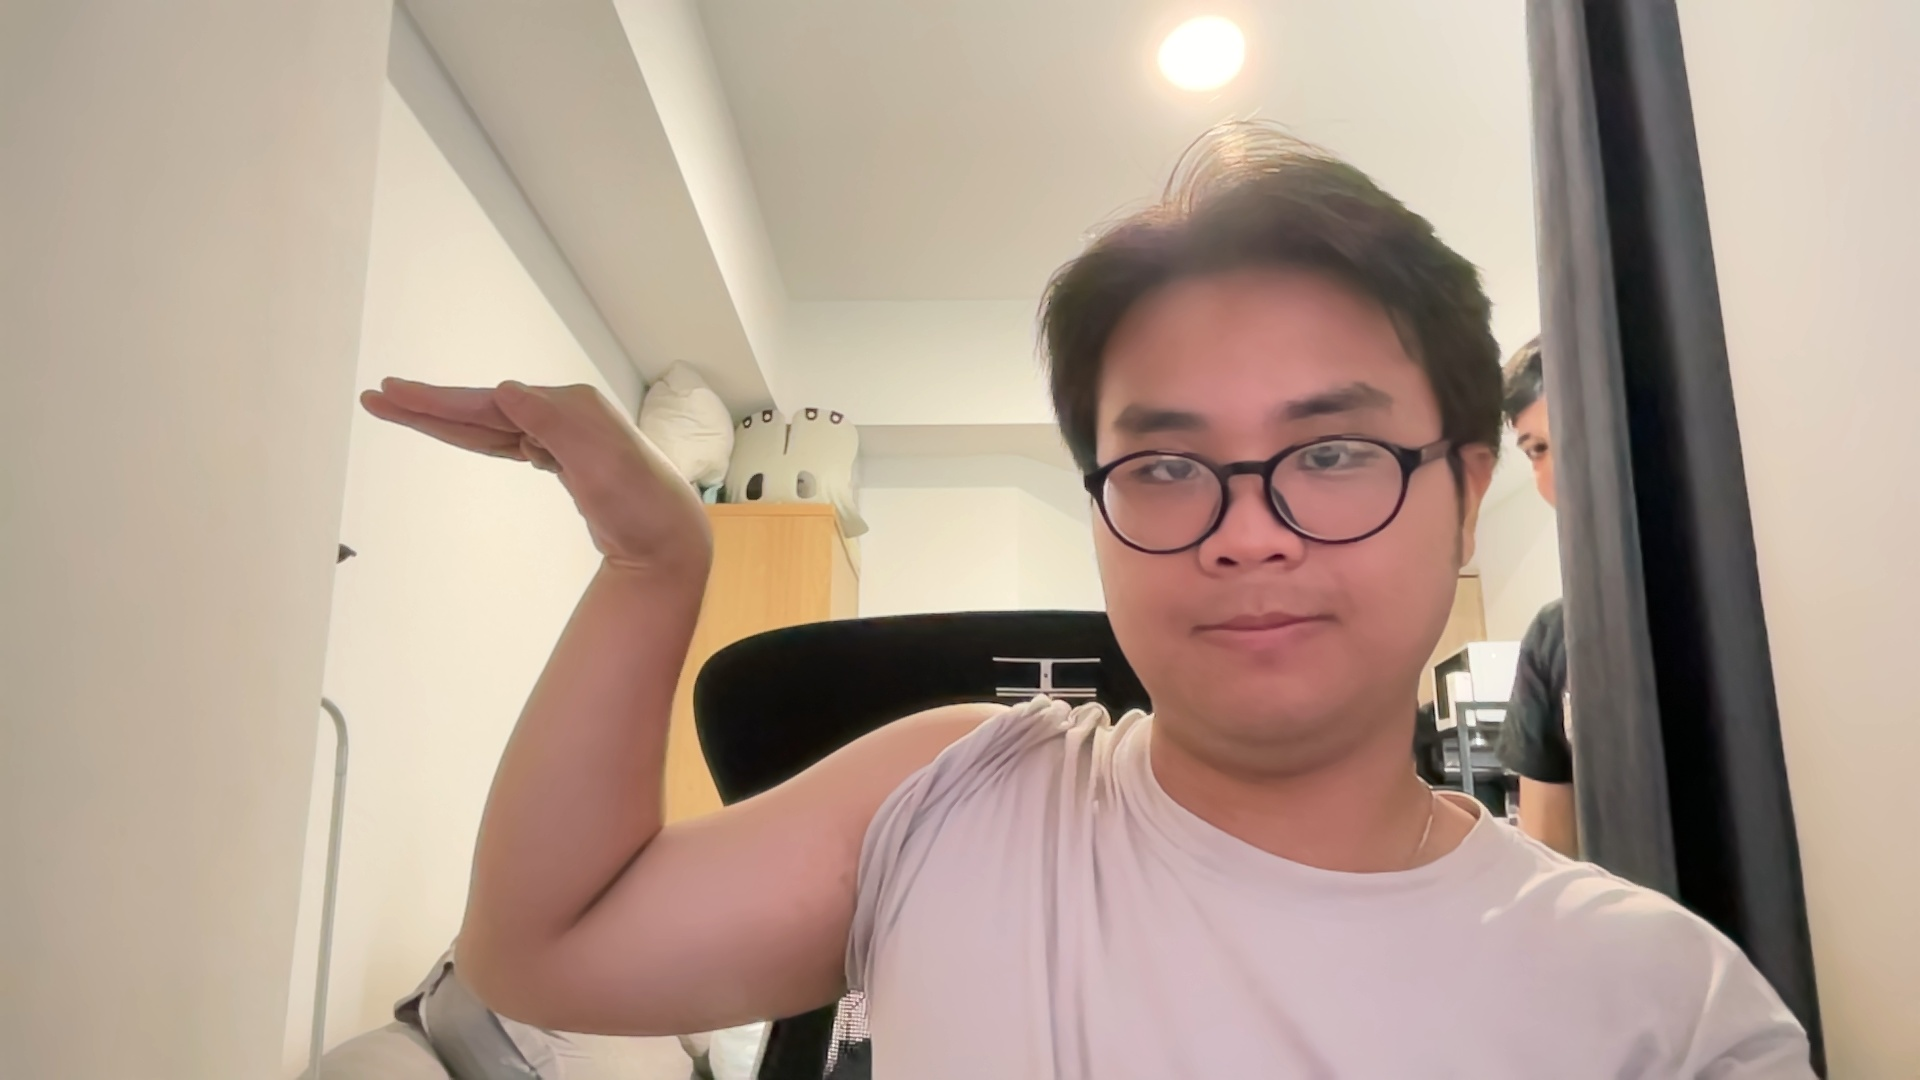Z: (324, 328, 886, 1034)
